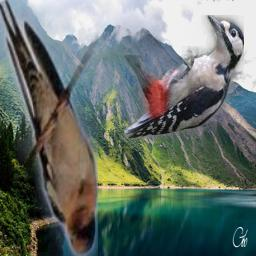Swallow: (0, 0, 98, 256)
Woodpecker: (124, 15, 244, 139)
